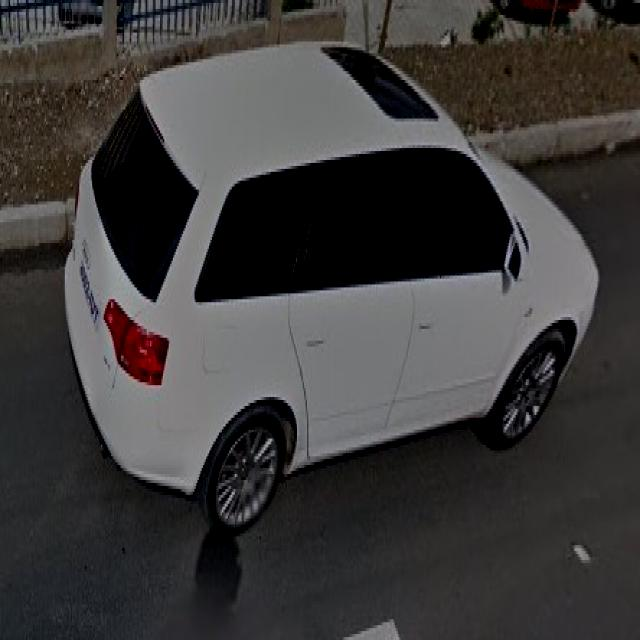car: (63, 48, 598, 529)
